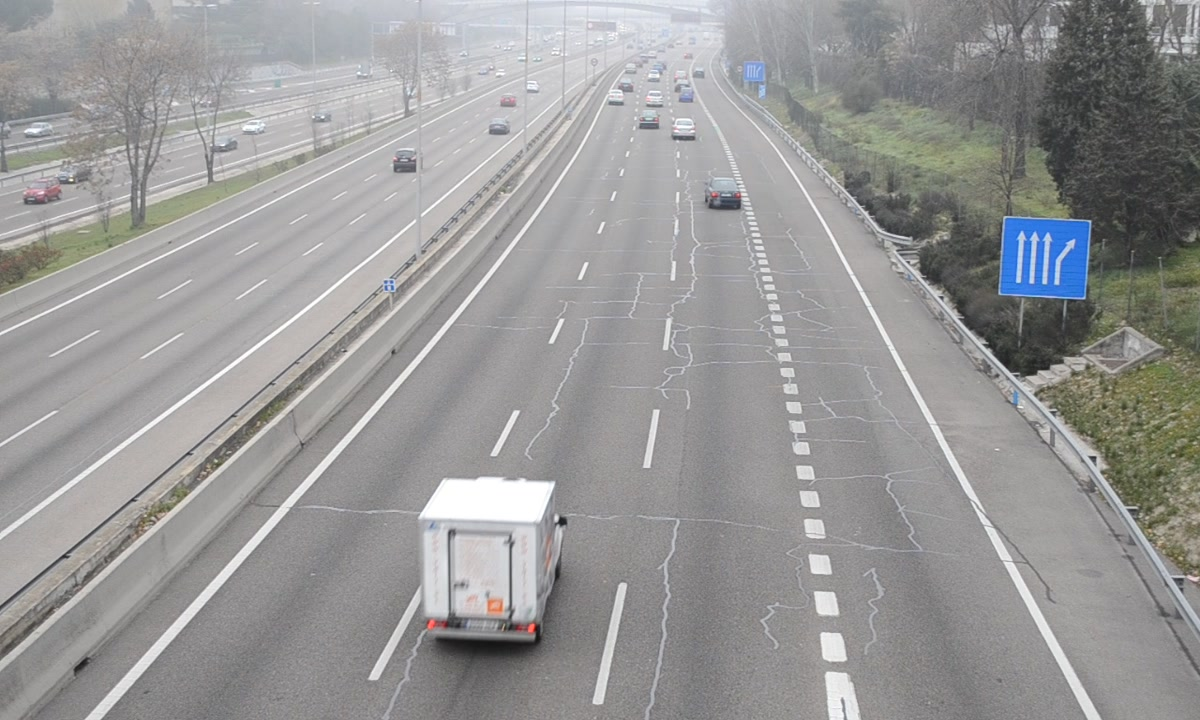car: (703, 174, 742, 210)
small-truck: (419, 477, 566, 645)
